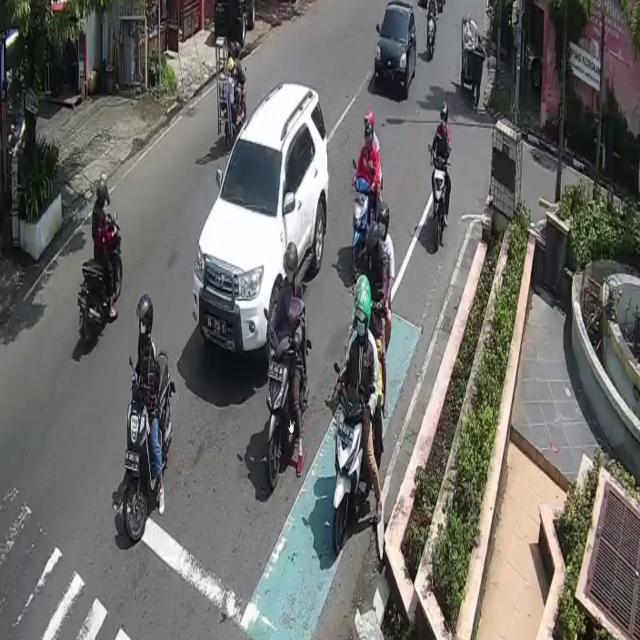car: (192, 80, 328, 374), (373, 2, 417, 98)
motorbike: (128, 350, 174, 541), (266, 328, 302, 489), (81, 213, 123, 345), (334, 386, 366, 552), (353, 176, 368, 270), (433, 154, 447, 244)
